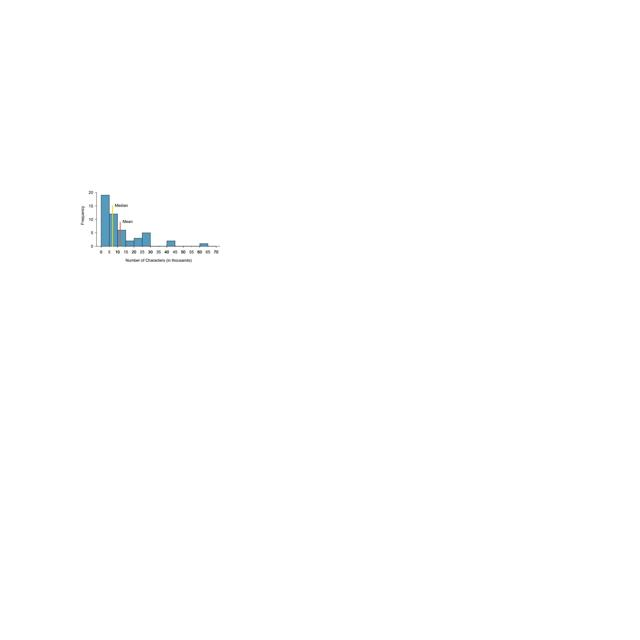Graph: (73, 185, 220, 264)
